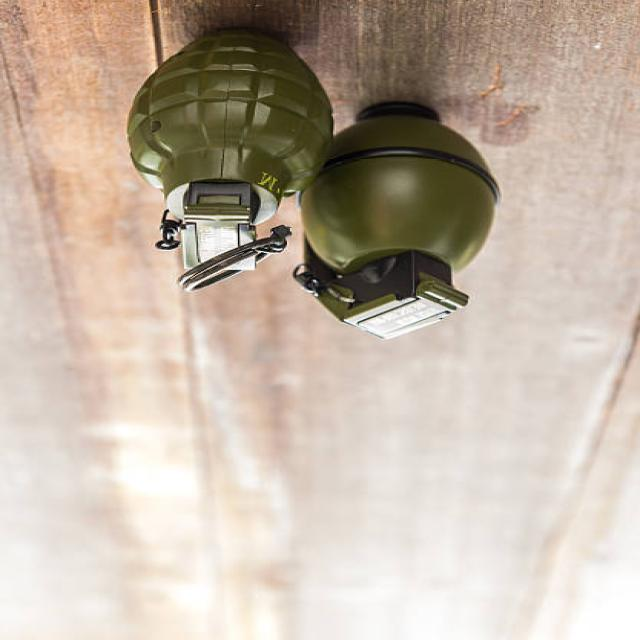grenade: (118, 24, 339, 298)
